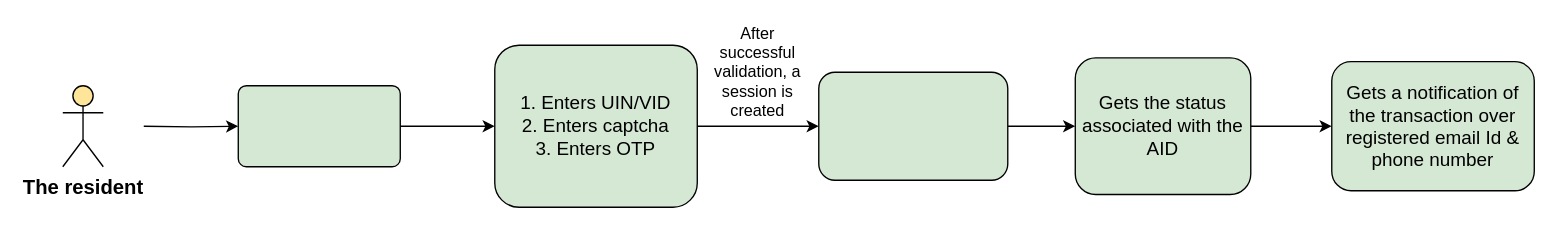
This 1558x231 diagram has some shape labels left out. The shapes that lost their labels are listed below. From the top down, each one's centre as x and y in pixels, then its label:
the point at 318,125: Navigates to "Track request using AID"
the point at 912,125: Enters AID and clicks on Submit
